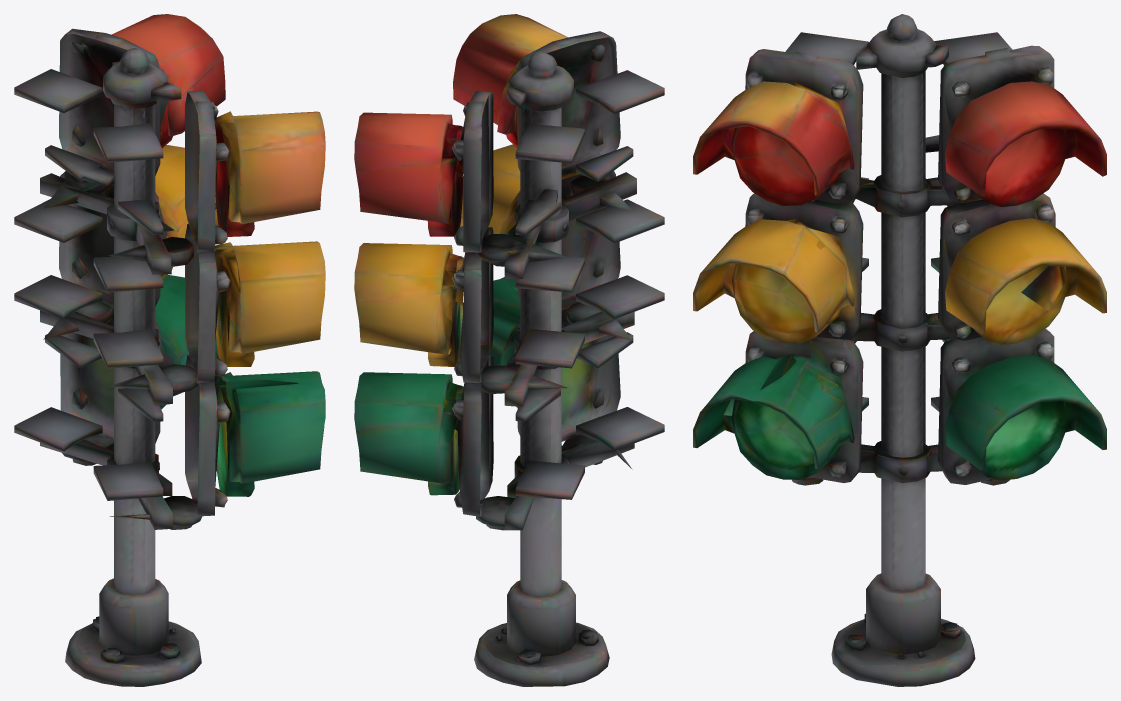
File: signal.glb
The picture shows the model from 3 angles, left to right: view 1: azimuth 30°, elevation 25°; view 2: azimuth 150°, elevation 25°; view 3: azimuth 270°, elevation 25°; orthographic projection. The views are drawn at different scales.
Parts seen in each view (by area): view 1: tripo_node_fc6566e5-5cff-4204-8cda-04c52b68162a; view 2: tripo_node_fc6566e5-5cff-4204-8cda-04c52b68162a; view 3: tripo_node_fc6566e5-5cff-4204-8cda-04c52b68162a.
Boxes of the visible parts, x1,y1,x2,y2 form: tripo_node_fc6566e5-5cff-4204-8cda-04c52b68162a: (14,14,325,686); tripo_node_fc6566e5-5cff-4204-8cda-04c52b68162a: (354,14,664,686); tripo_node_fc6566e5-5cff-4204-8cda-04c52b68162a: (693,14,1106,686).
Bounding box in the file's own units: 0.3535 × 0.9961 × 0.584.
Materials: 1 (1 with a texture image).
